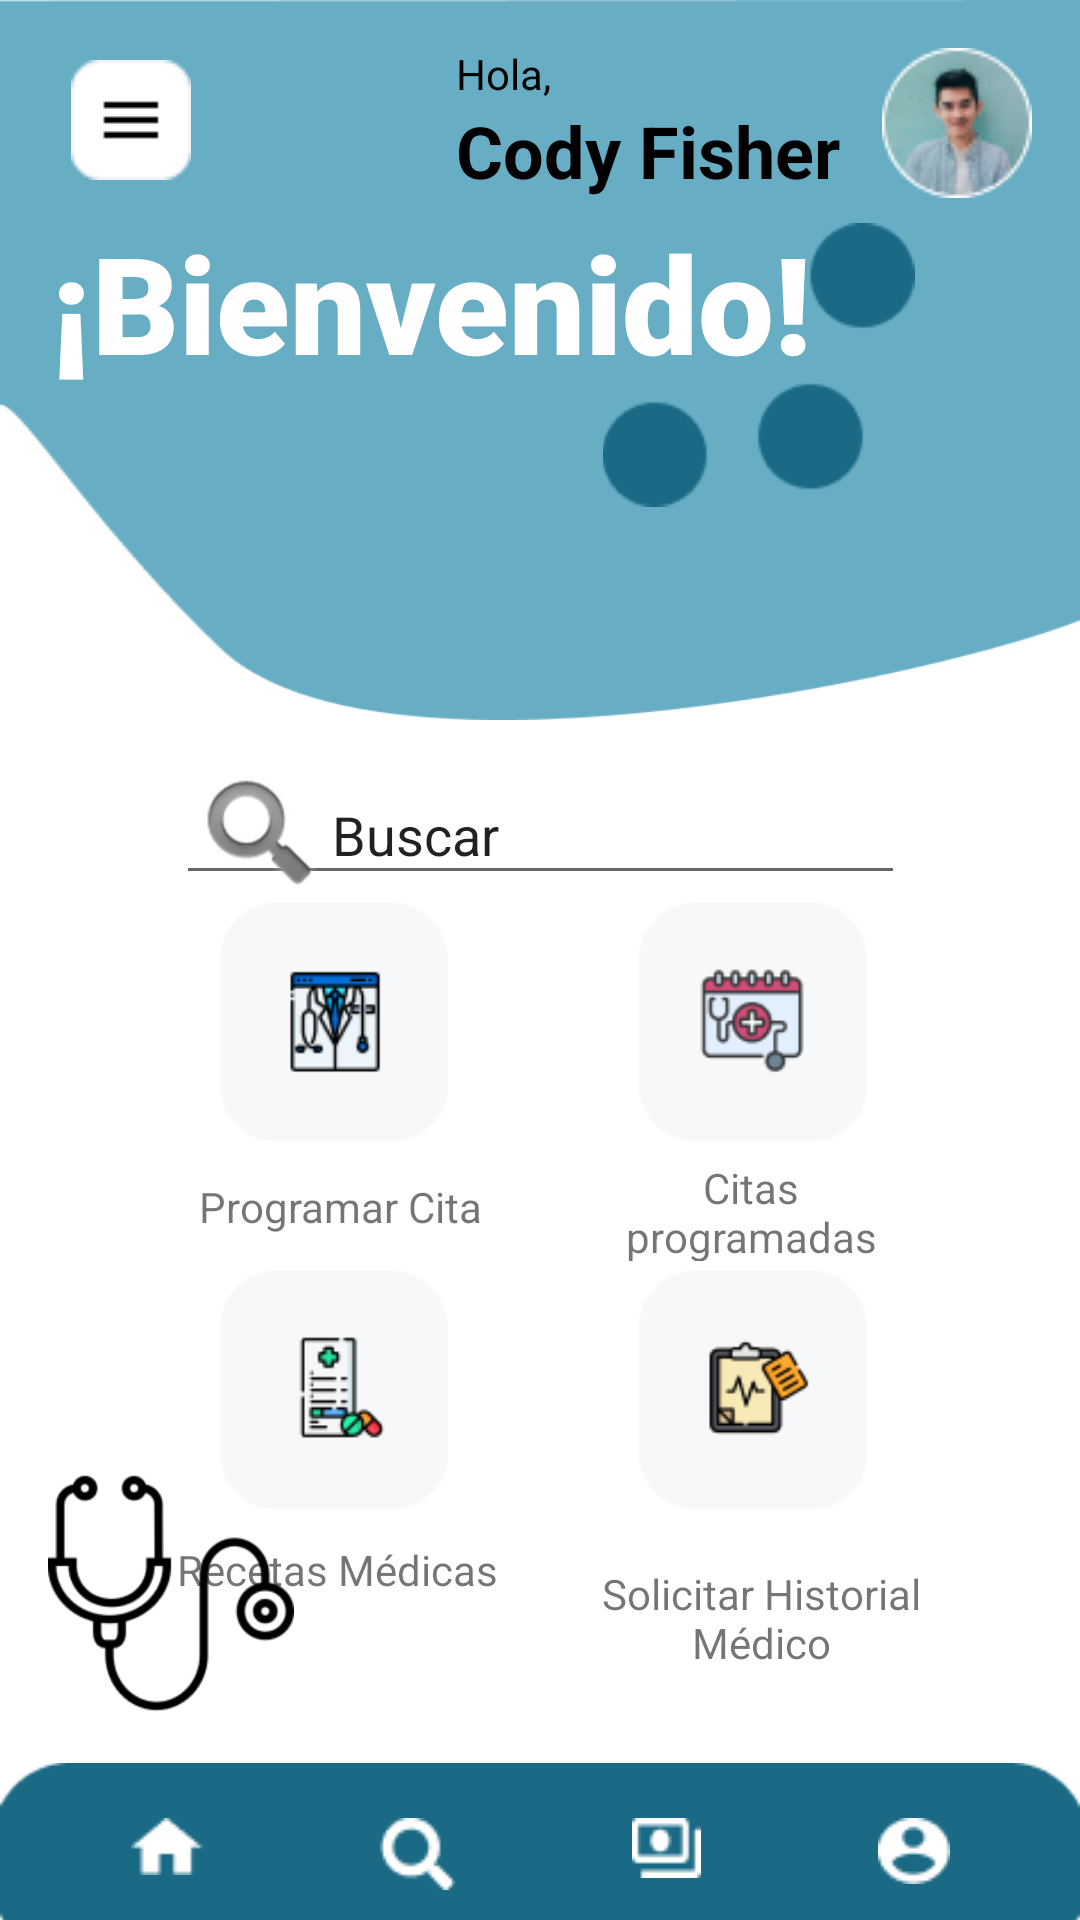

Screen size 1080 x 1920. Icon name, then its center in pixels as [x,y]:
estetocopio: [171,1593]
home: [167,1846]
payments: [666,1848]
profile: [914,1851]
search: [417,1854]
